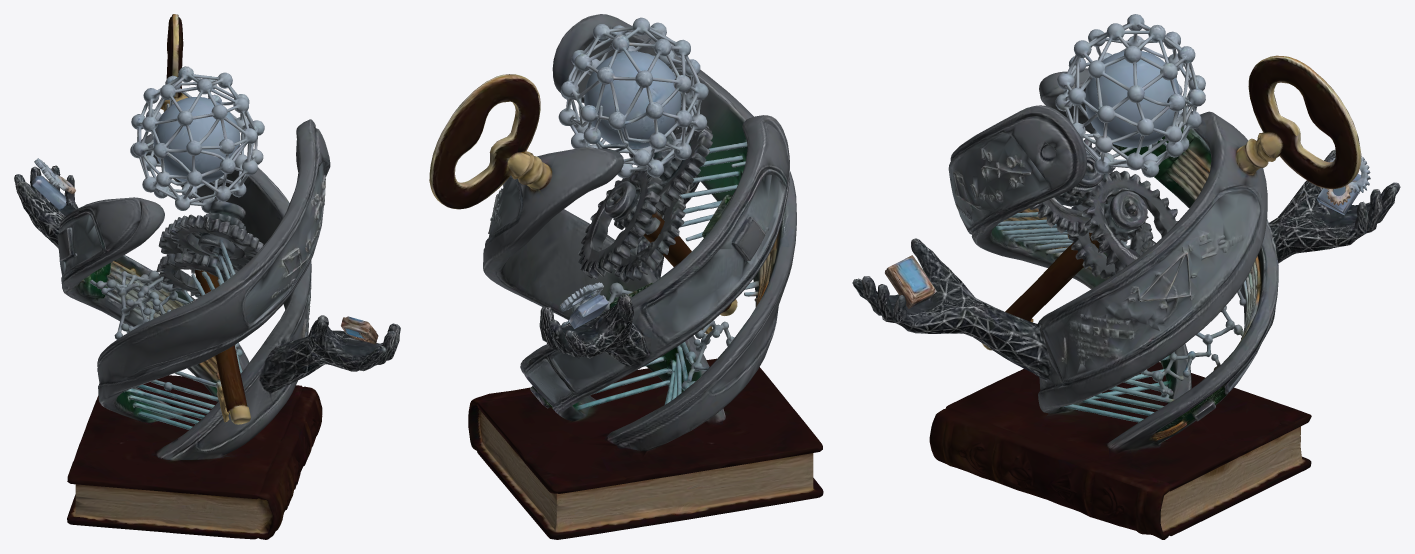
The model's file is hero-sculpture.glb.
3 views of the same model, side by side, from view 1: azimuth 30°, elevation 25°; view 2: azimuth 150°, elevation 25°; view 3: azimuth 270°, elevation 25° (orthographic). The views are drawn at different scales.
Visible parts, largest first — view 1: tripo_node_02ce7d96-51f6-4fee-8f70-46f75f3031c6; view 2: tripo_node_02ce7d96-51f6-4fee-8f70-46f75f3031c6; view 3: tripo_node_02ce7d96-51f6-4fee-8f70-46f75f3031c6.
Part boxes in pixels (<box>): tripo_node_02ce7d96-51f6-4fee-8f70-46f75f3031c6: <box>14,14,400,539</box>; tripo_node_02ce7d96-51f6-4fee-8f70-46f75f3031c6: <box>429,14,823,539</box>; tripo_node_02ce7d96-51f6-4fee-8f70-46f75f3031c6: <box>852,14,1400,539</box>.
Size of the model in its own units: 21602 by 28891 by 32118.
Materials: 1 (1 with a texture image).
